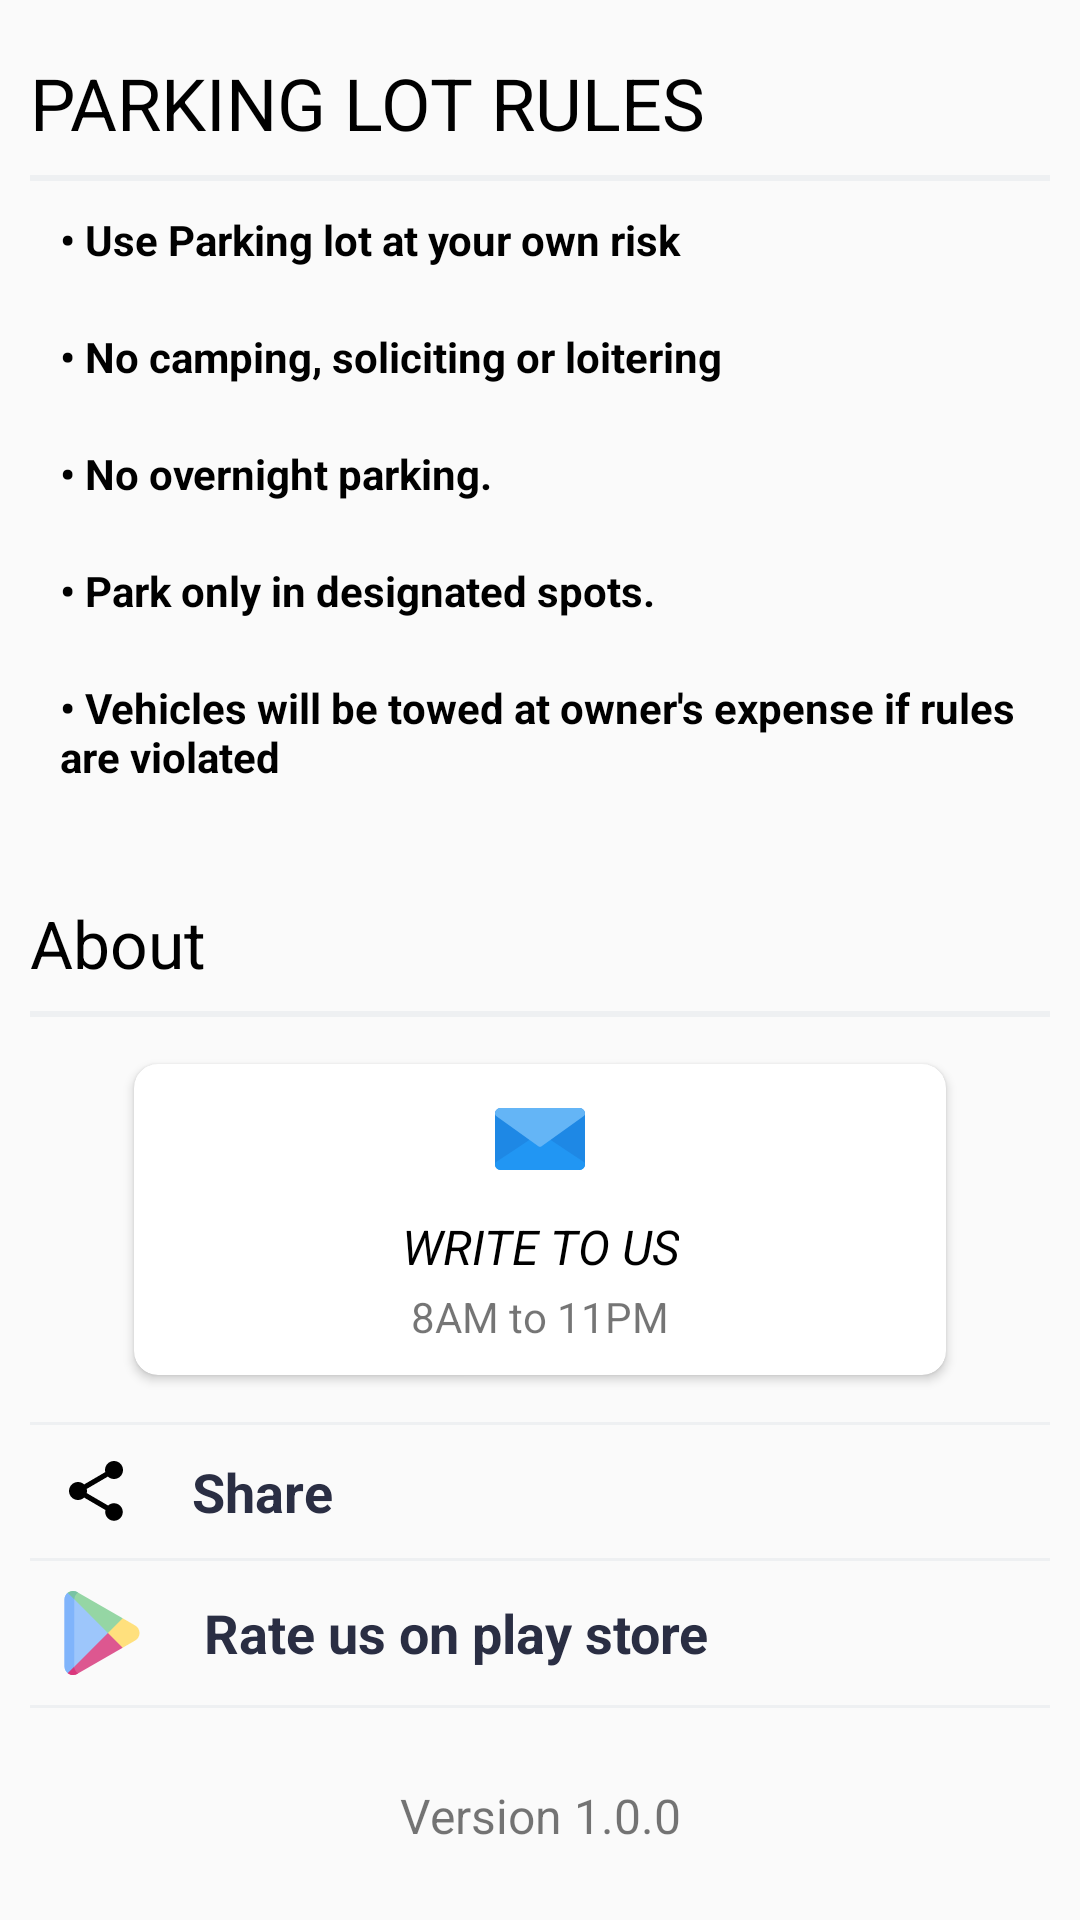

Screen size 1080 × 1920. Icon name, then its center in pixels as [x,y]:
email: [540,1139]
